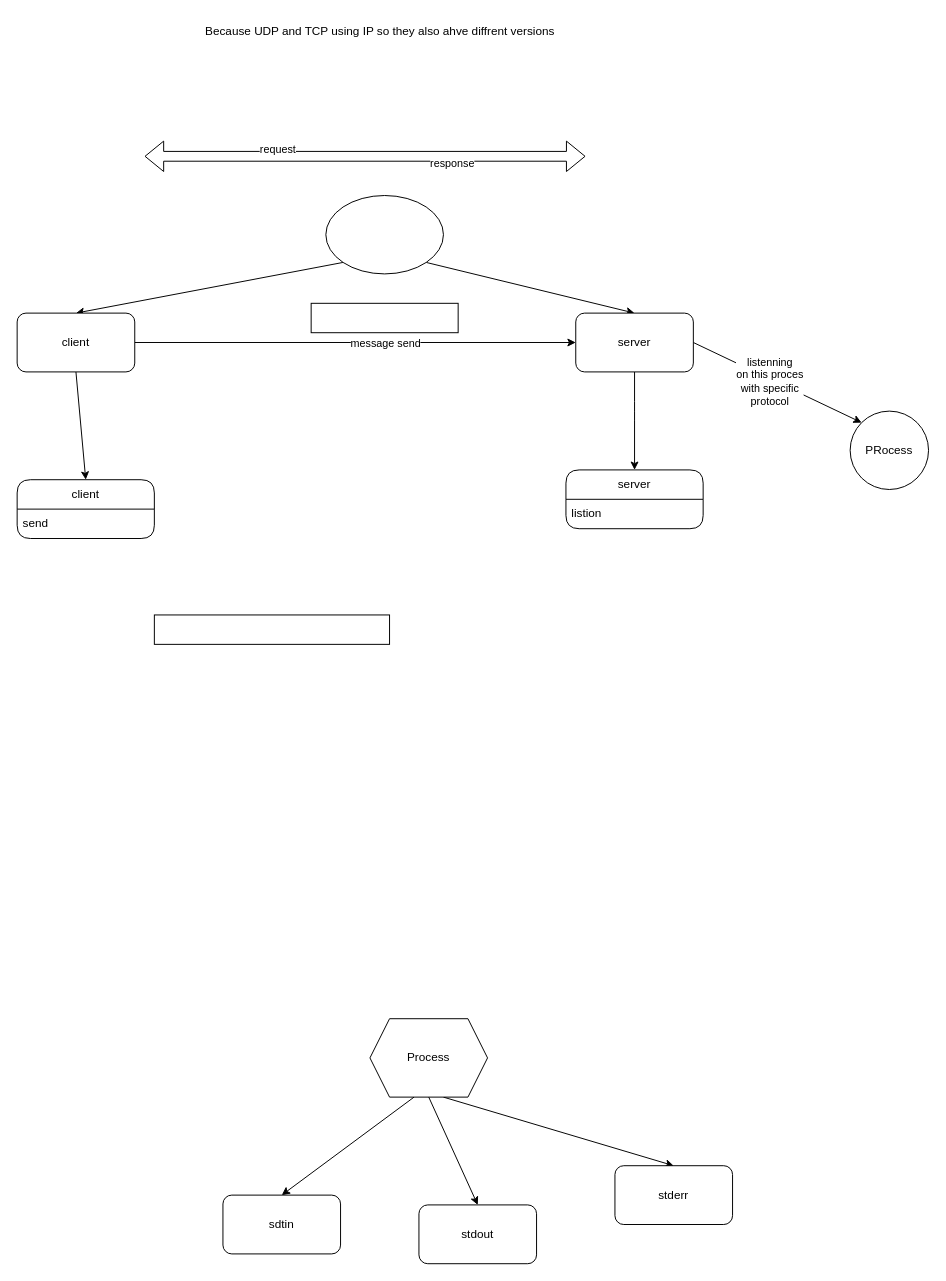
This 946x1281 diagram has some shape labels left out. Each missing label, with the centre of its shape:
"one way communication" belongs at pixel 384 317.
"udp commutination" belongs at pixel 384 234.
"watch on wireshark: - udp.port === 4000" belongs at pixel 271 629.
